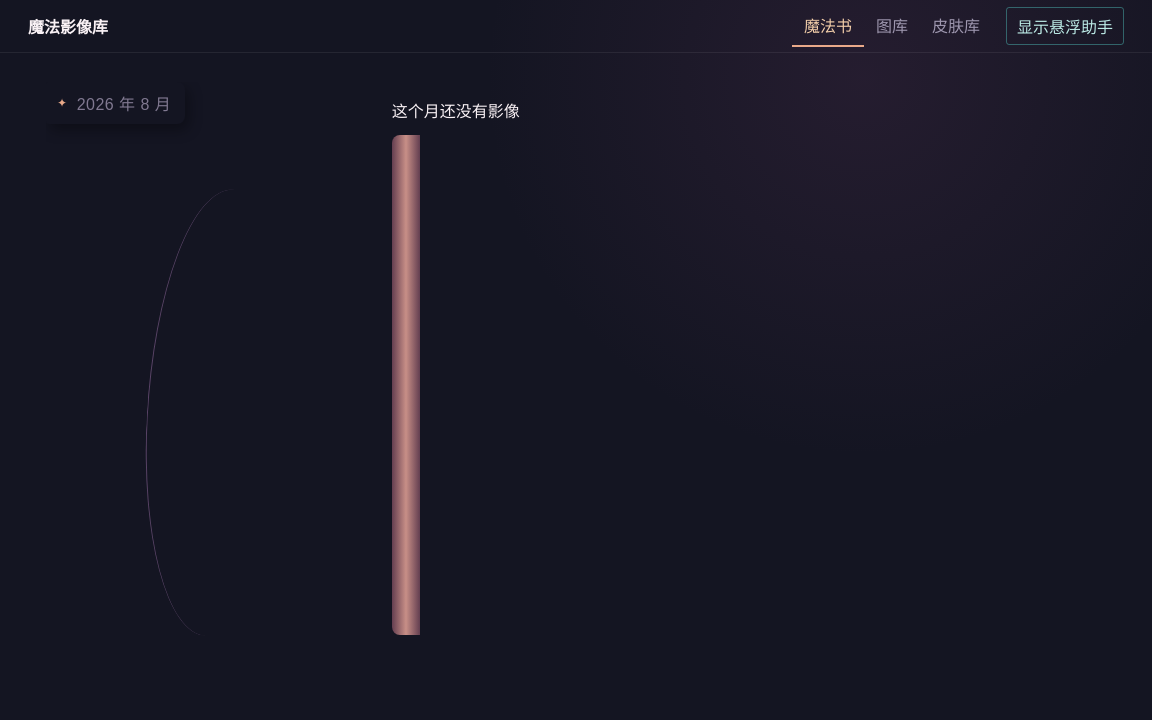
Scenario: restores a hidden companion from the main window
Click the button "显示悬浮助手" at (1065, 26), box [1006, 7, 1124, 45]
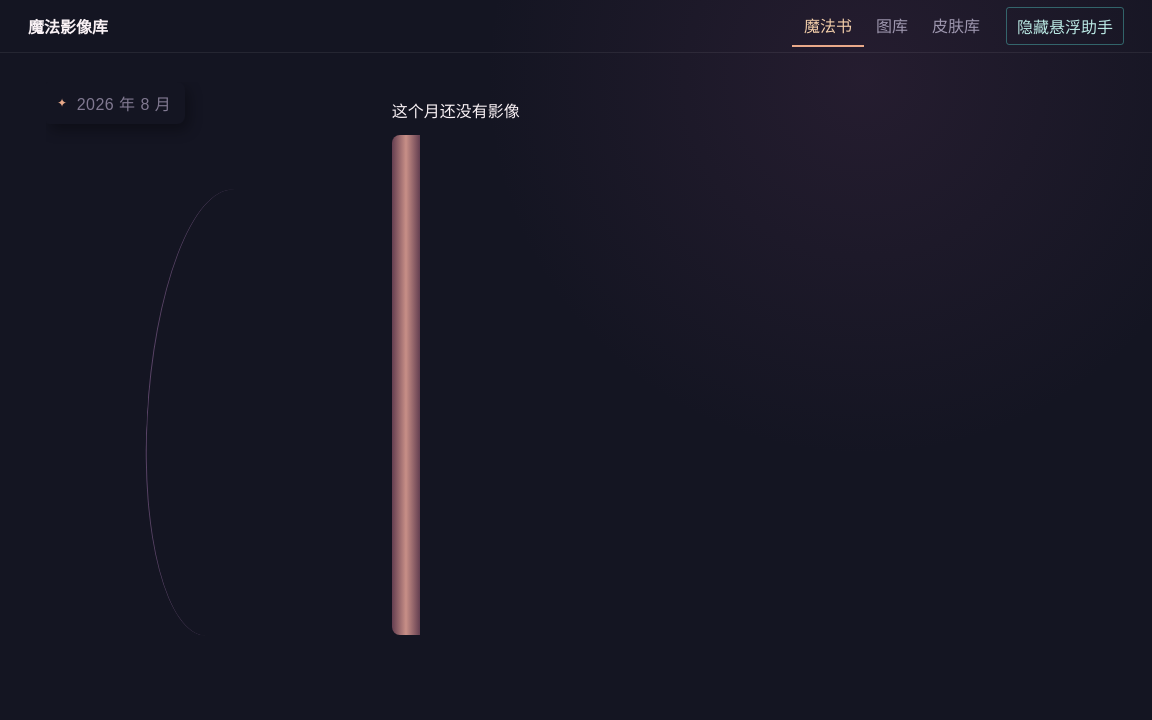
Now the button "隐藏悬浮助手" is shown, box [1006, 7, 1124, 45]
